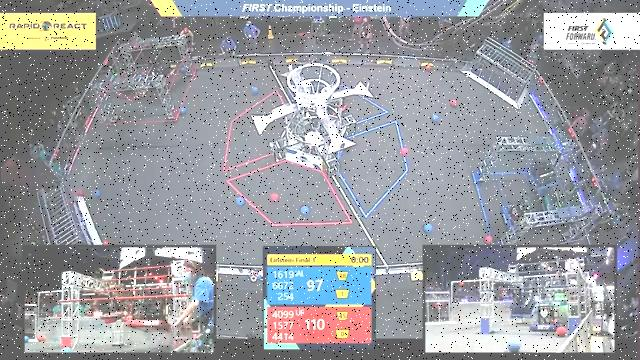Robot: (539, 177, 594, 227), (499, 193, 543, 237), (523, 146, 564, 192), (140, 49, 178, 90), (109, 65, 146, 107), (321, 85, 355, 127)
